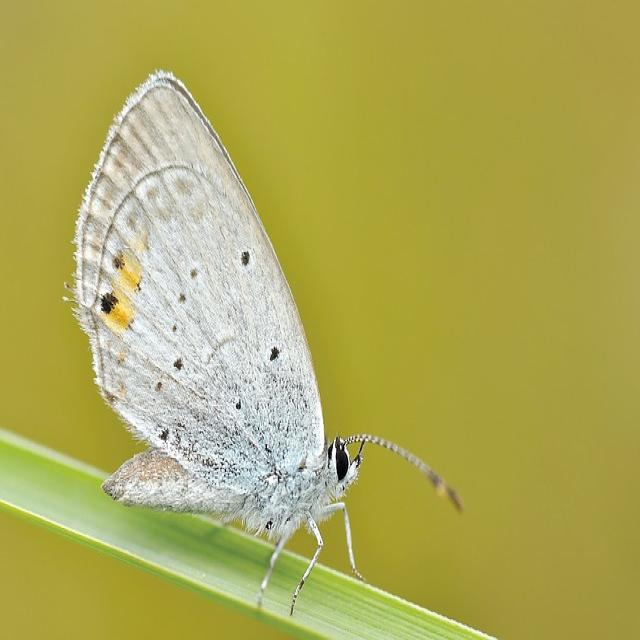butterfly: (75, 74, 462, 612)
